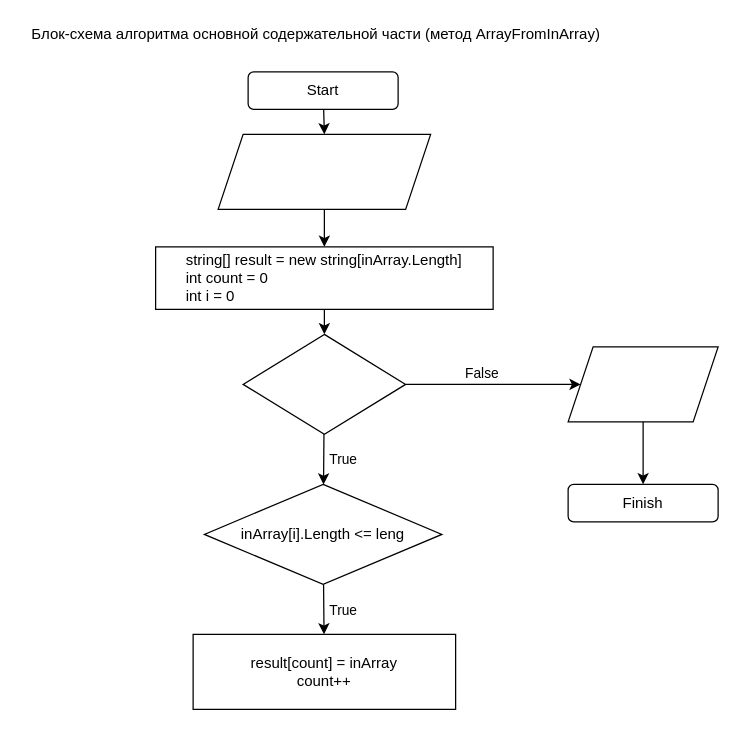
Image size: 740x731. Some labels were removed from this diagram. Here are the shapes that lost their labels. From the top down, the box of each, then its label:
(217, 133, 431, 209): Ручной ввод: string[num] inArray int leng
(242, 333, 406, 434): i < inArray.Length
(567, 346, 718, 422): return result
